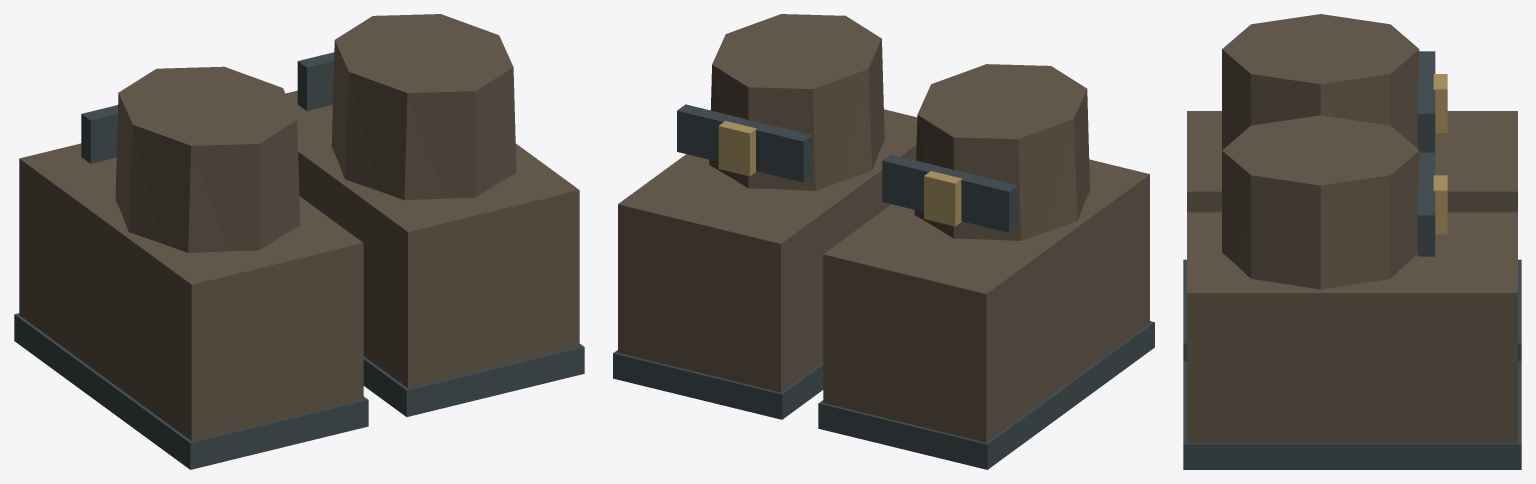
File: Equip_Boots.fbx
3 renders of one model, left to right at view 1: azimuth 30°, elevation 25°; view 2: azimuth 150°, elevation 25°; view 3: azimuth 270°, elevation 25°, orthographic. The views are drawn at different scales.
Parts seen in each view (by area): view 1: Equip_Boots; view 2: Equip_Boots; view 3: Equip_Boots.
Part boxes in pixels (bbox=[...]): Equip_Boots: bbox=[14, 14, 584, 469]; Equip_Boots: bbox=[613, 14, 1154, 469]; Equip_Boots: bbox=[1183, 14, 1521, 469].
Size of the model in its own units: 0.62 by 0.435 by 0.48.
